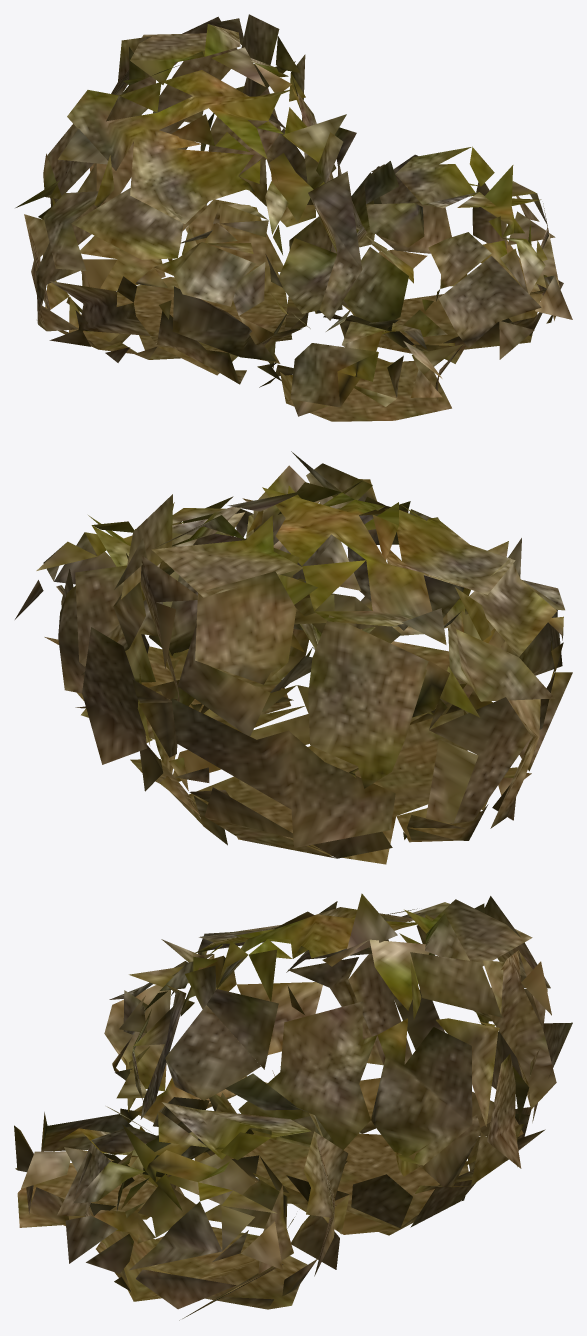
Rendered from pedras_lod2.glb.
3 renders of one model, top to bottom at view 1: azimuth 30°, elevation 25°; view 2: azimuth 150°, elevation 25°; view 3: azimuth 270°, elevation 25°, orthographic. The views are drawn at different scales.
Visible parts, largest first — view 1: pedras; view 2: pedras; view 3: pedras.
Part boxes in pixels (box(x1,y1,x2,y2)): pedras: box(15, 14, 572, 421); pedras: box(15, 451, 572, 864); pedras: box(14, 893, 572, 1320).
Size of the model in its own units: 1.5 by 0.8386 by 1.42.
1 material, 1 textured.
